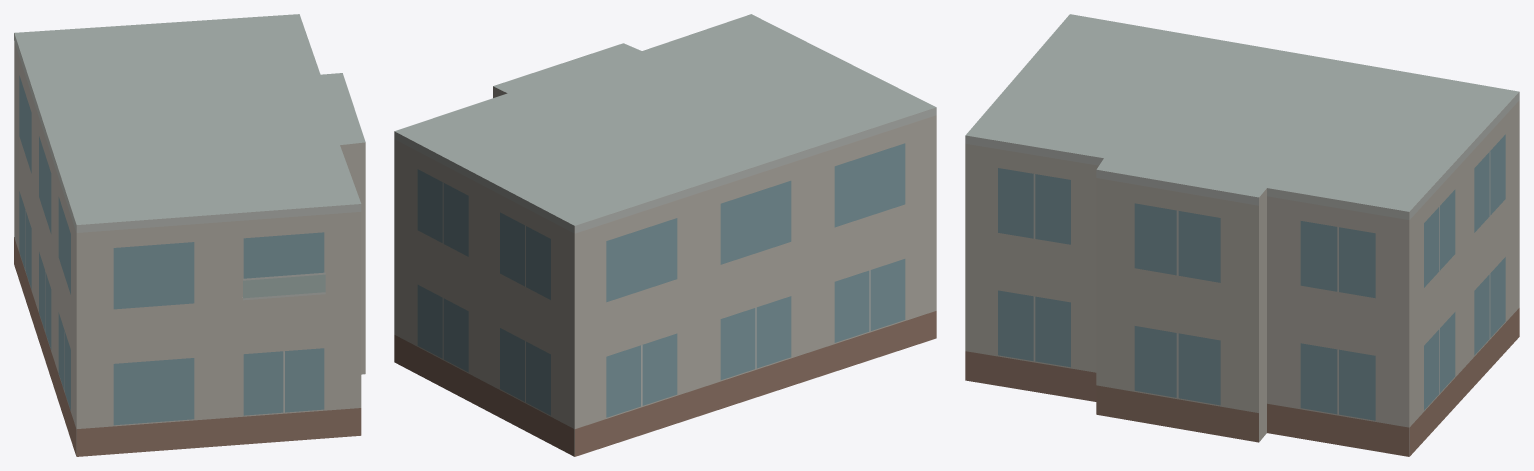
The model's file is survey-upis-32676762.glb.
3 renders of one model, left to right at view 1: azimuth 30°, elevation 25°; view 2: azimuth 150°, elevation 25°; view 3: azimuth 270°, elevation 25°, orthographic. The views are drawn at different scales.
Parts seen in each view (by area): view 1: survey-upis-32676762.tmp; view 2: survey-upis-32676762.tmp; view 3: survey-upis-32676762.tmp.
Part boxes in pixels (bbox=[...]): survey-upis-32676762.tmp: bbox=[14, 14, 365, 456]; survey-upis-32676762.tmp: bbox=[394, 14, 936, 456]; survey-upis-32676762.tmp: bbox=[965, 14, 1519, 456].
Bounding box in the file's own units: 12.48 × 7.2 × 14.77.
